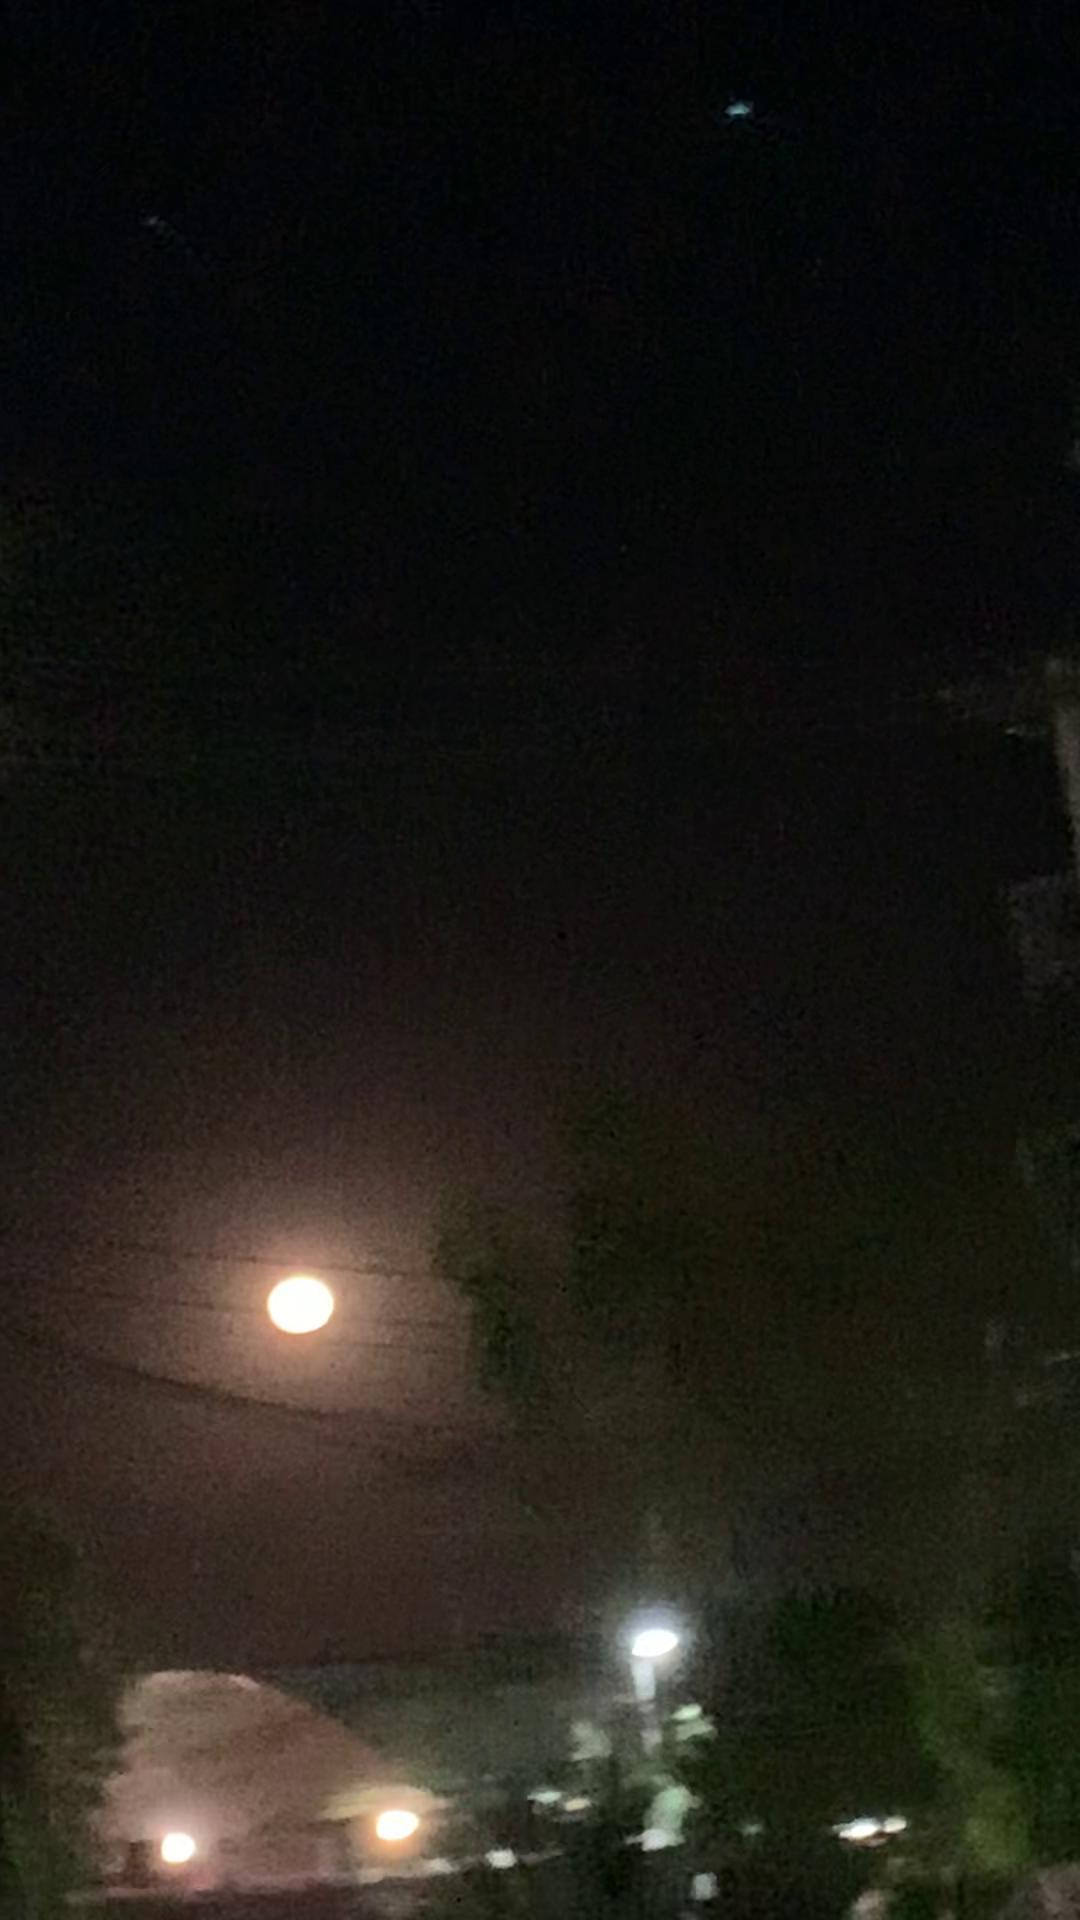moon: (248, 1275, 347, 1357)
